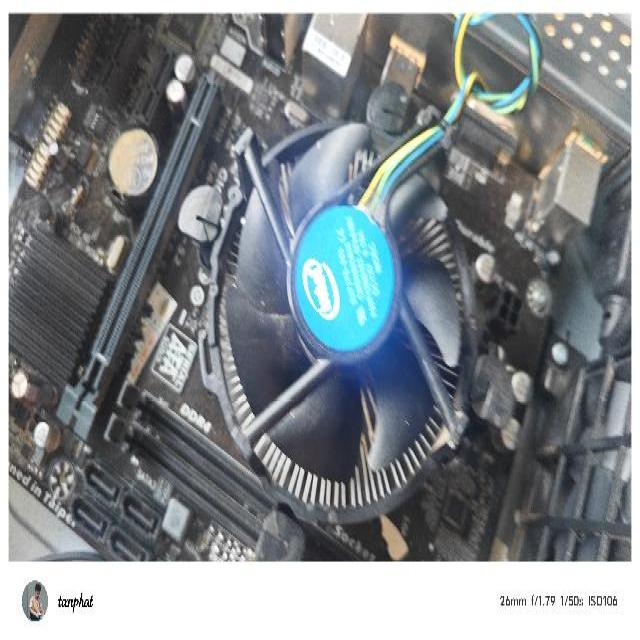CPU_Fan: (197, 113, 516, 558)
Mainboard: (8, 14, 544, 563)
